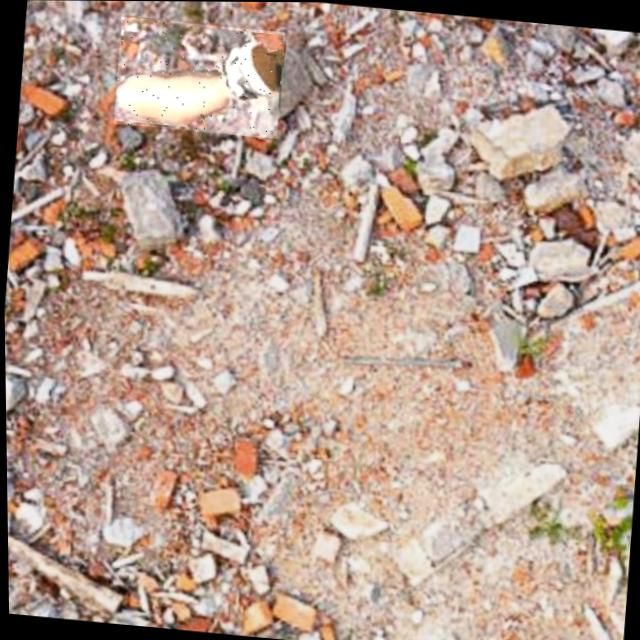Person in Rubble: (112, 15, 286, 137)
